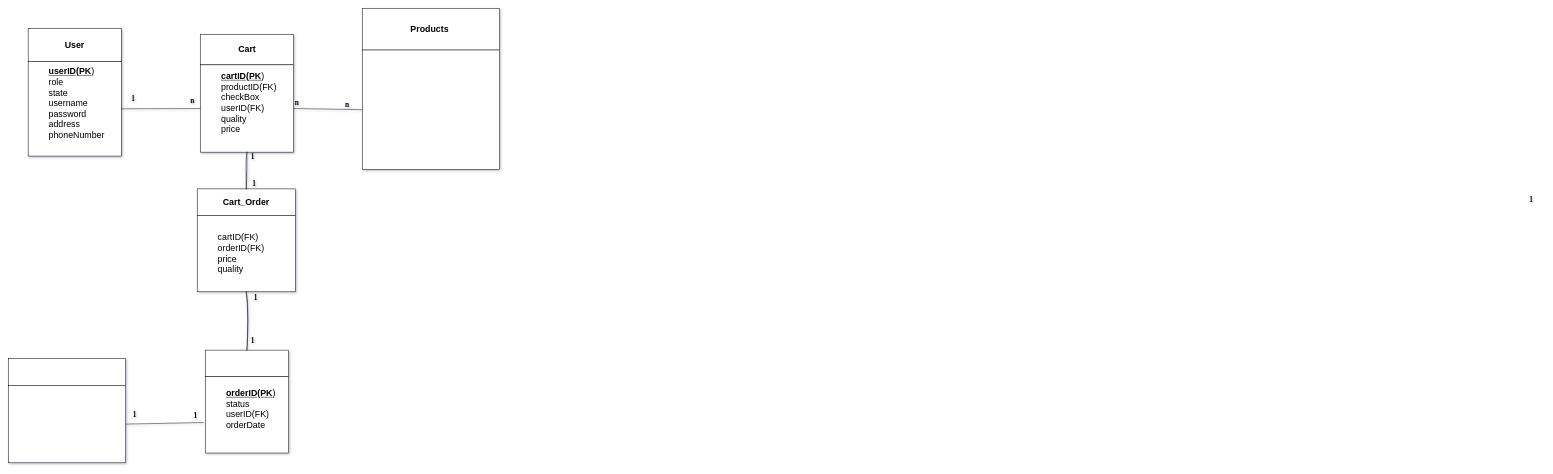
The diagram is 1553 pixels wide and 474 high, and some of its shapes have lost their labels. The shapes that lost their labels are listed below. From the top down, each one's centre as x and y in pixels, then its label:
At pixel 431 109: "productID(PK ) stock Image productName description quality price".
At pixel 67 371: "Invoices".
At pixel 247 363: "Order".
At pixel 67 424: "invoiceID(PK ) paymentMethod orderID(FK) paymentDate total".
